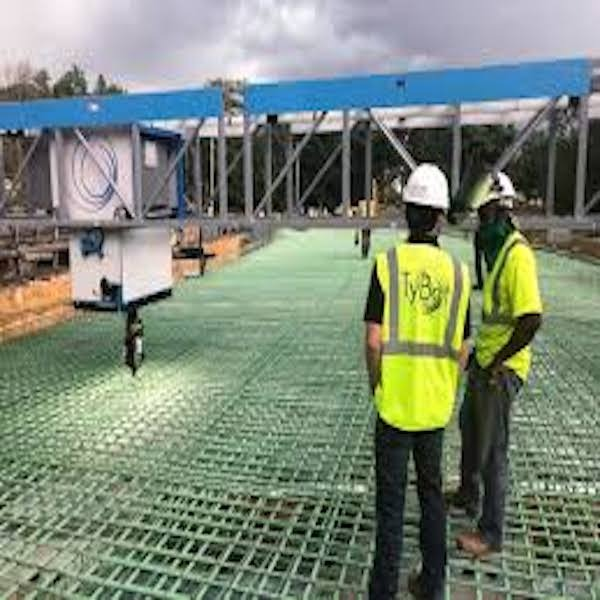helmet: (406, 161, 450, 204), (471, 173, 524, 208)
vest: (378, 243, 471, 418), (472, 233, 543, 369)
